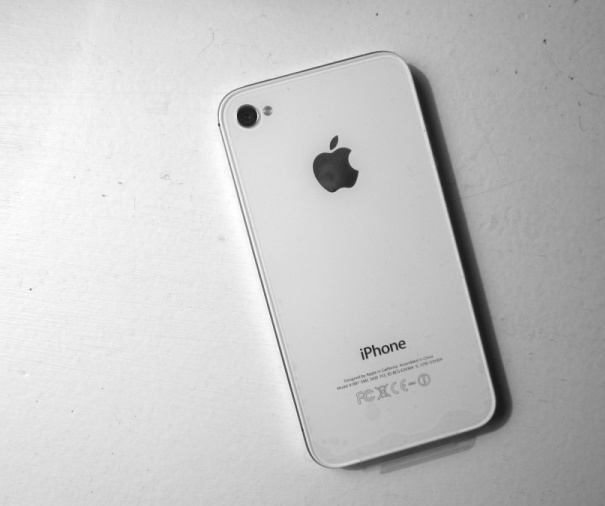apple: (302, 135, 382, 204)
